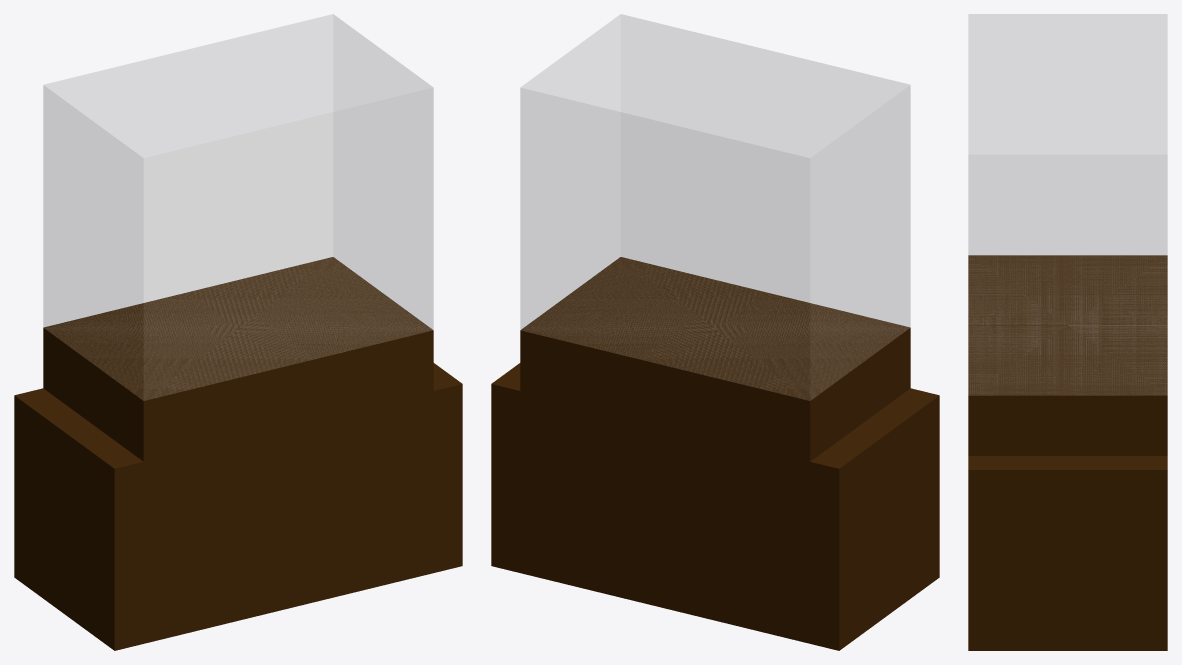
The model's file is Display_Case.fbx.
The picture shows the model from 3 angles, left to right: view 1: azimuth 30°, elevation 25°; view 2: azimuth 150°, elevation 25°; view 3: azimuth 270°, elevation 25°; orthographic projection.
Visible parts, largest first — view 1: pCube3, pCube2, pCube1; view 2: pCube3, pCube2, pCube1; view 3: pCube3, pCube2, pCube1.
Part boxes in pixels (<box>): pCube3: <box>43,14,433,400</box>; pCube2: <box>43,257,433,643</box>; pCube1: <box>14,363,462,650</box>; pCube3: <box>520,14,910,400</box>; pCube2: <box>520,257,910,642</box>; pCube1: <box>491,363,939,650</box>; pCube3: <box>968,14,1167,395</box>; pCube2: <box>968,255,1167,455</box>; pCube1: <box>968,456,1167,650</box>.
Bounding box in the file's own units: 6 × 8 × 3.
